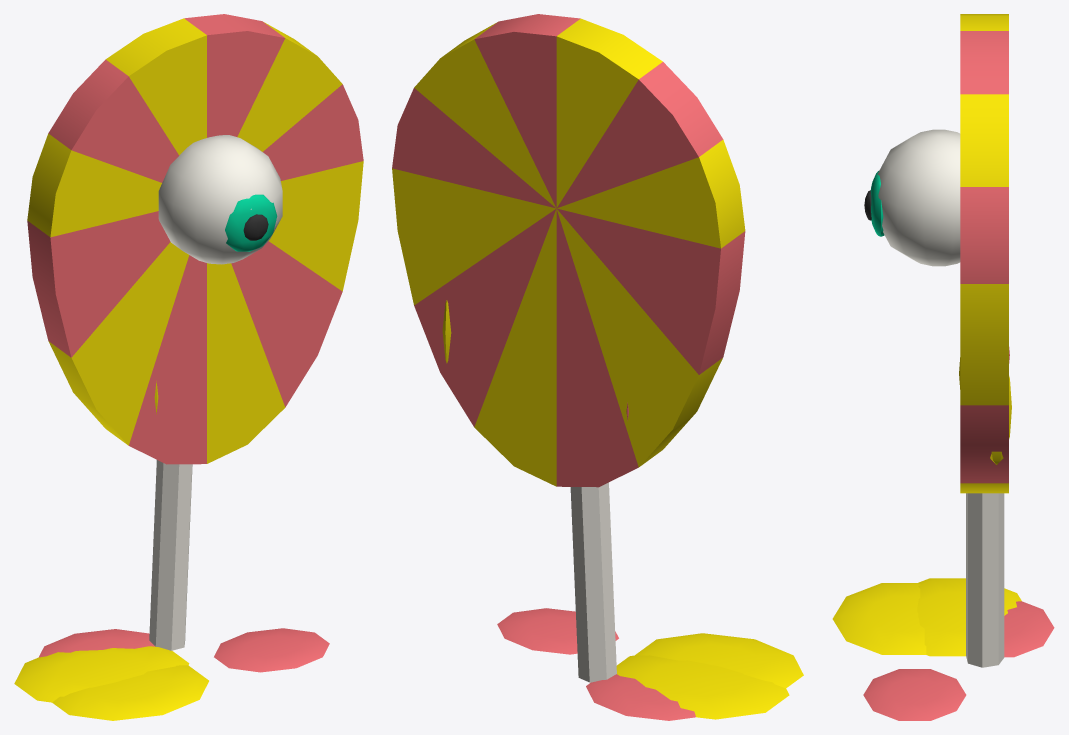
File: TW_EyeLollipop_Warm.fbx
3 views of the same model, side by side, from view 1: azimuth 30°, elevation 25°; view 2: azimuth 150°, elevation 25°; view 3: azimuth 270°, elevation 25° (orthographic). The views are drawn at different scales.
Visible parts, largest first — view 1: Body; view 2: Body; view 3: Body.
Boxes of the visible parts, box(x1,y1,x2,y2) form: Body: box(14, 14, 363, 720); Body: box(392, 14, 803, 720); Body: box(832, 14, 1054, 720).
Size of the model in its own units: 2.72 by 4.69 by 1.46.
